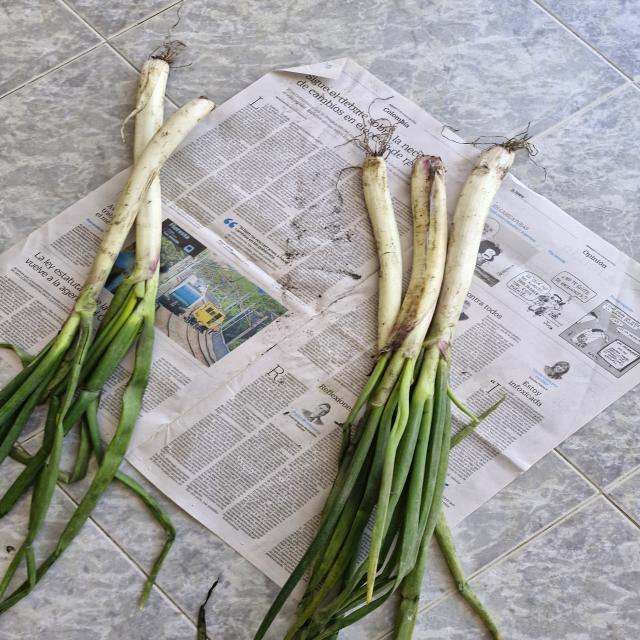green_onion: (306, 132, 528, 640), (0, 32, 223, 431)
